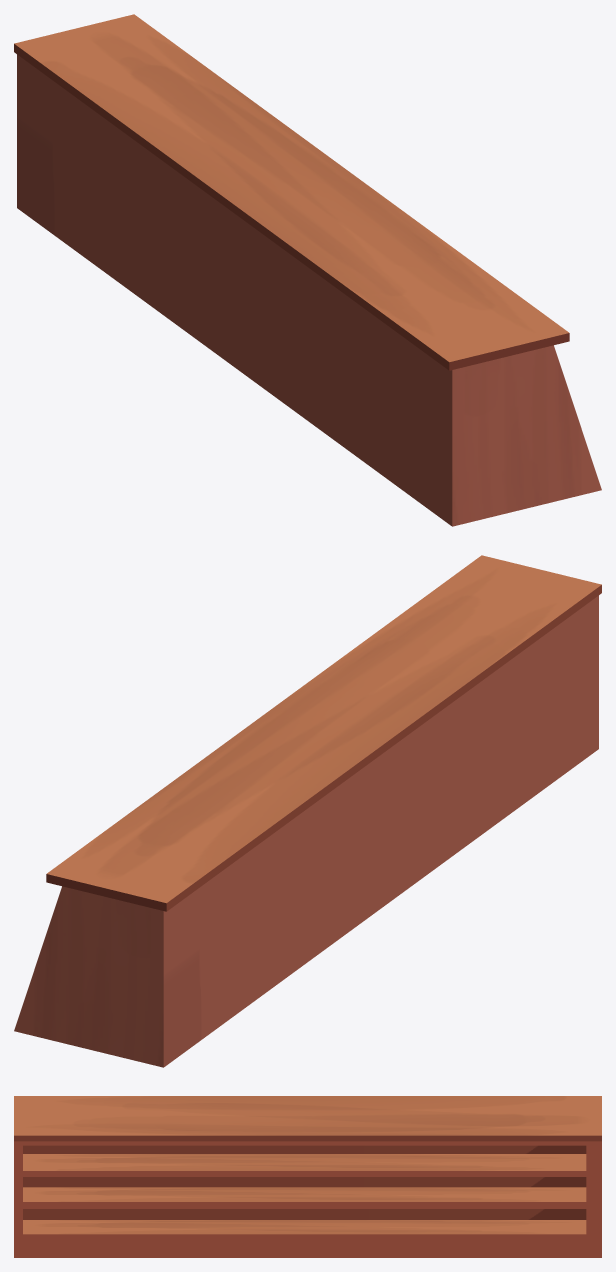
3 views of the same model, one above another, from view 1: azimuth 30°, elevation 25°; view 2: azimuth 150°, elevation 25°; view 3: azimuth 270°, elevation 25° (orthographic). The views are drawn at different scales.
Visible parts, largest first — view 1: polySurface77; view 2: polySurface77; view 3: polySurface77.
Part boxes in pixels (x1,y1,x2,y2): polySurface77: (14, 14, 601, 526); polySurface77: (14, 555, 601, 1067); polySurface77: (14, 1096, 601, 1257).
Size of the model in its own units: 74.32 by 76.85 by 367.
Materials: 1 (1 with a texture image).
